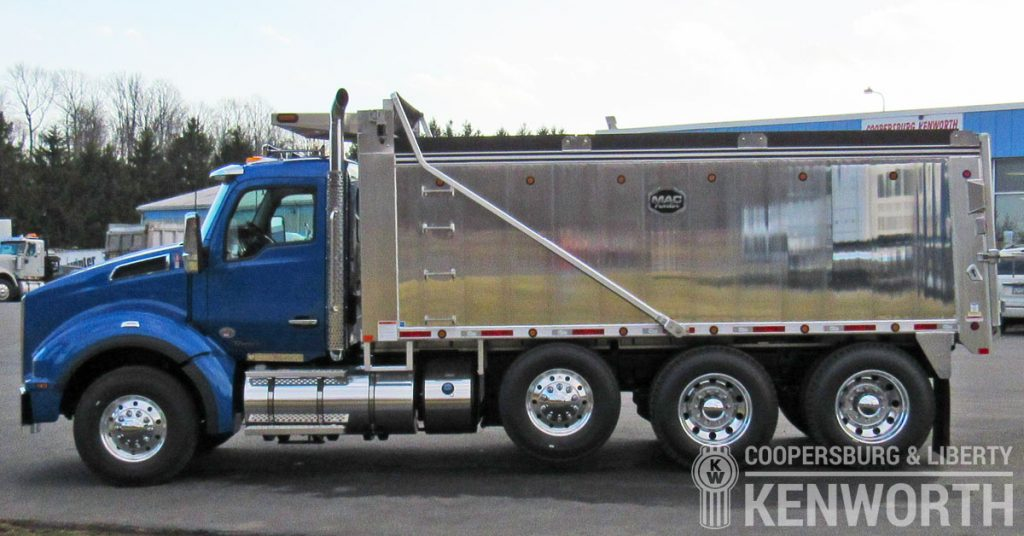truck: (21, 101, 988, 486)
